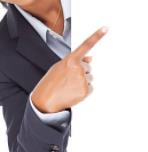up: (30, 24, 115, 112)
